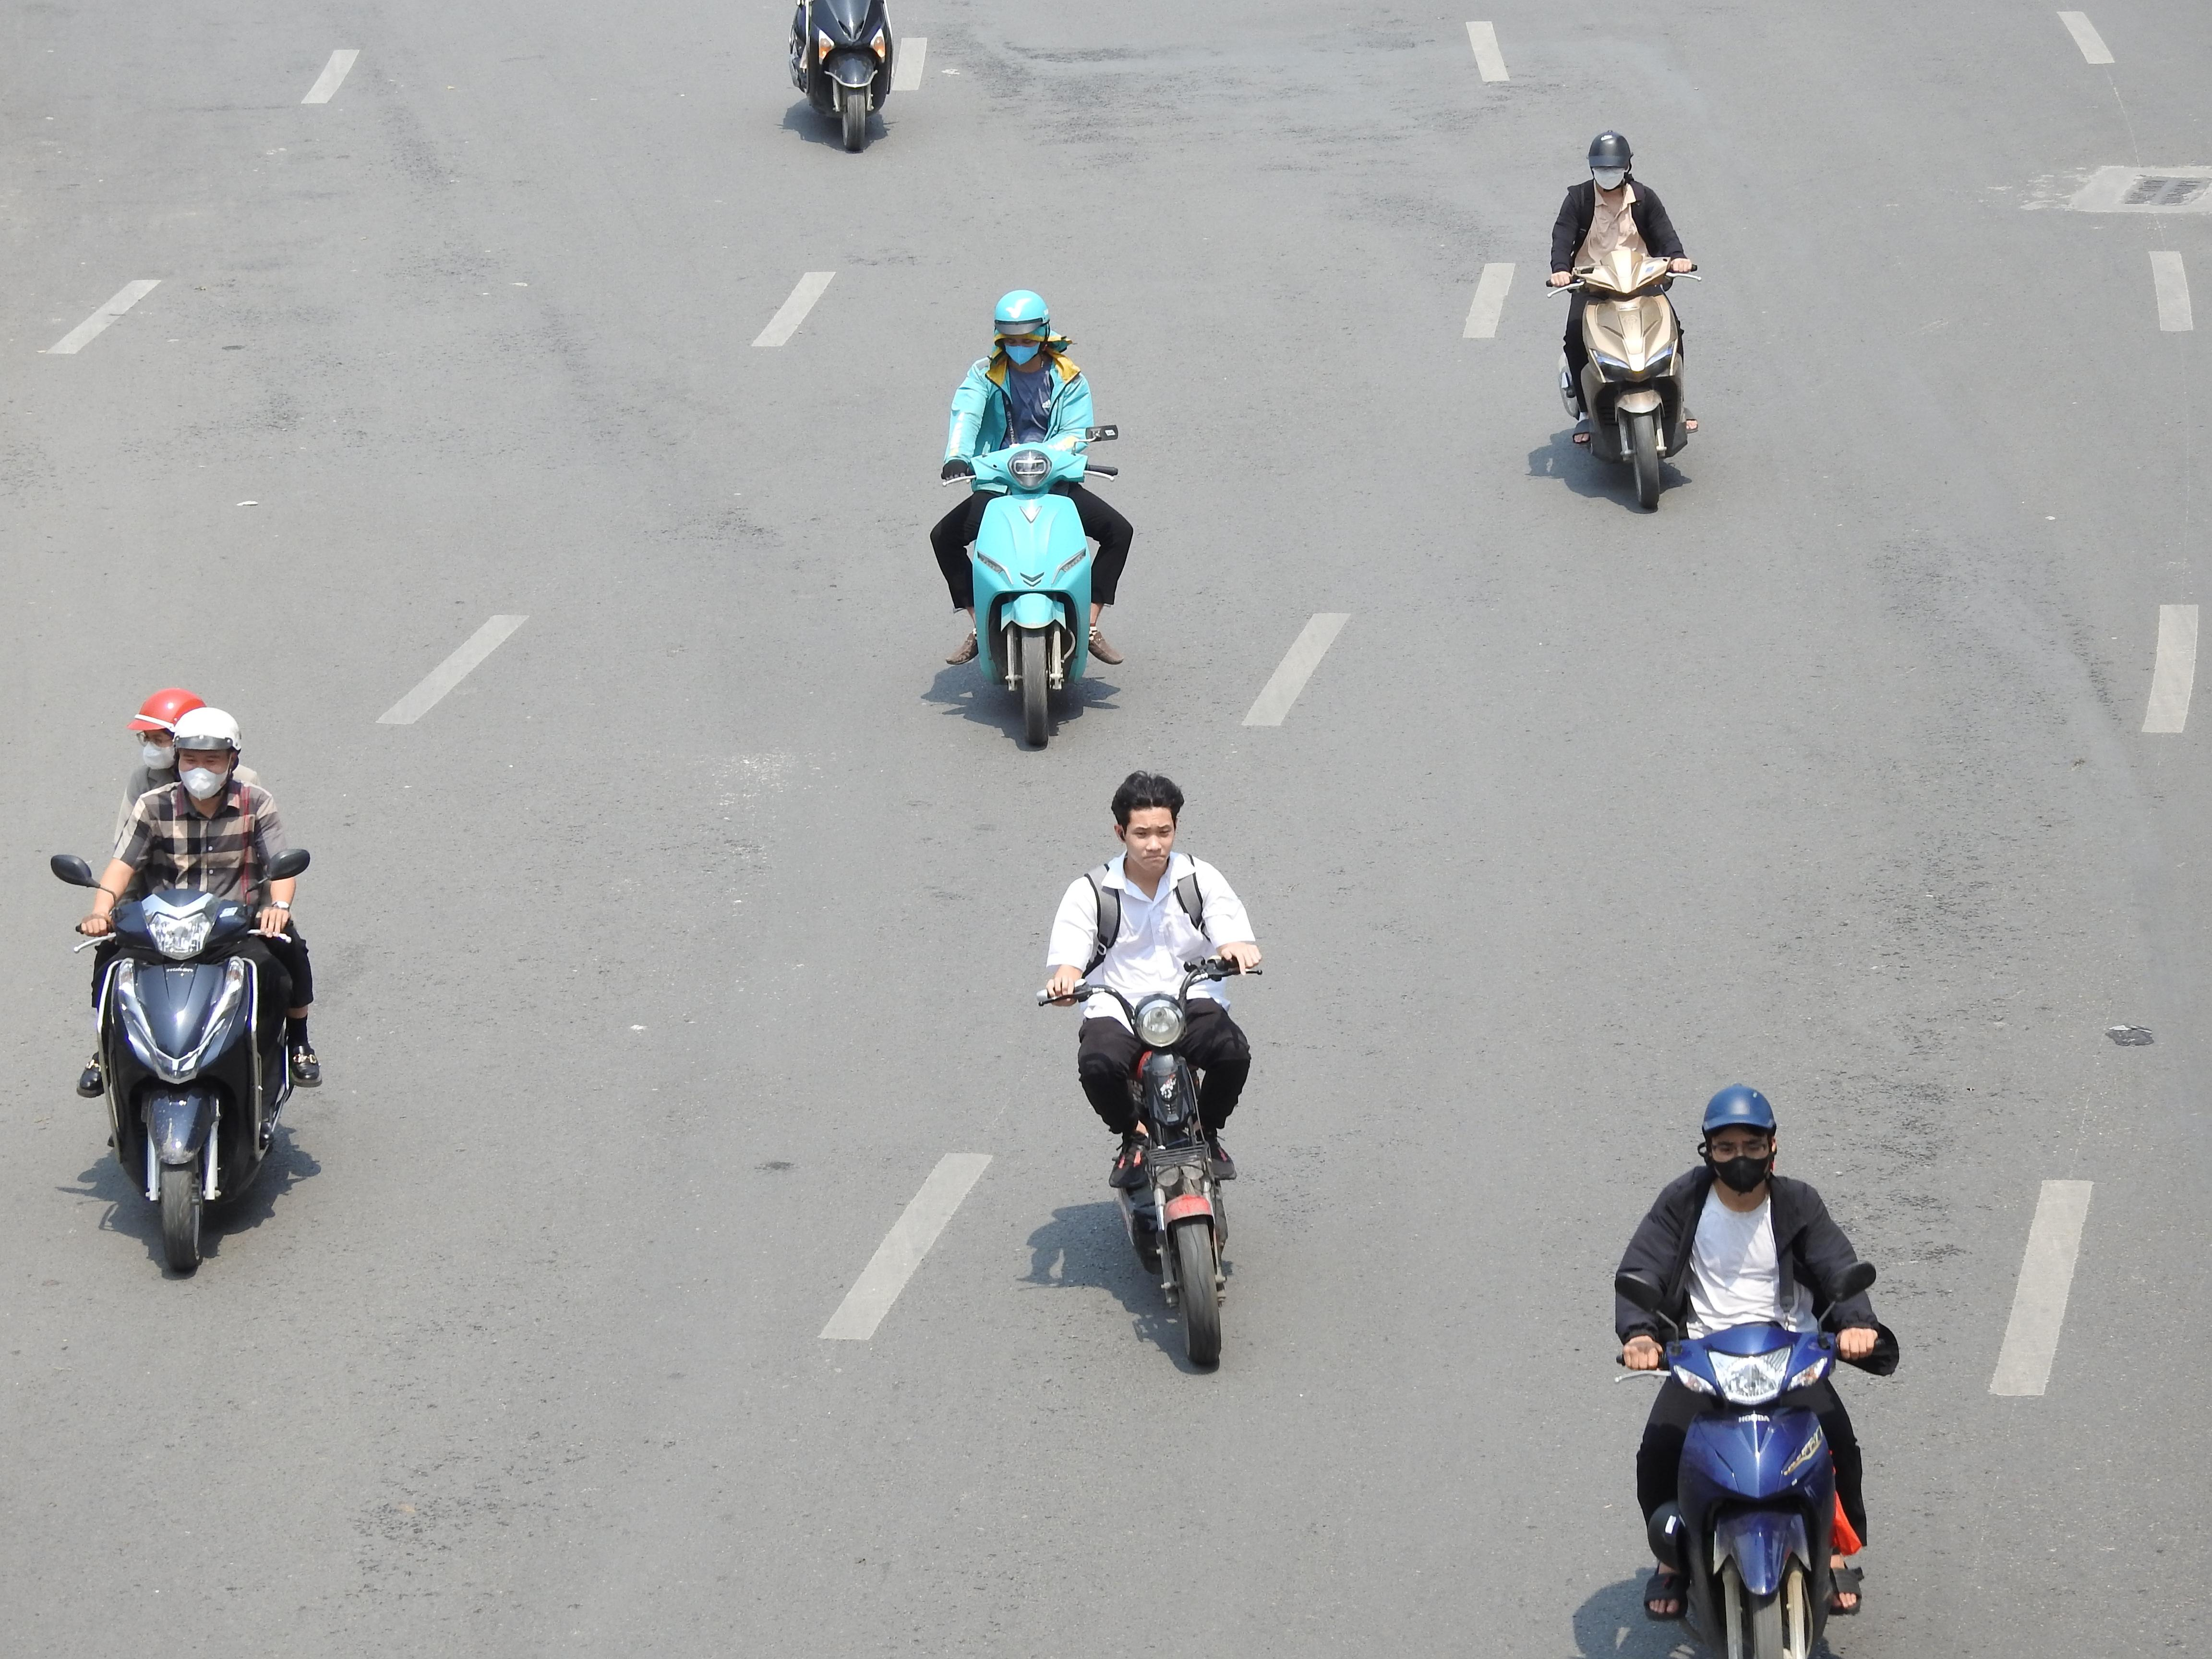motorbike: (1611, 1082, 1897, 1659), (54, 690, 320, 1279), (1043, 770, 1263, 1373), (935, 288, 1130, 751), (1547, 129, 1700, 516), (787, 0, 899, 153)
